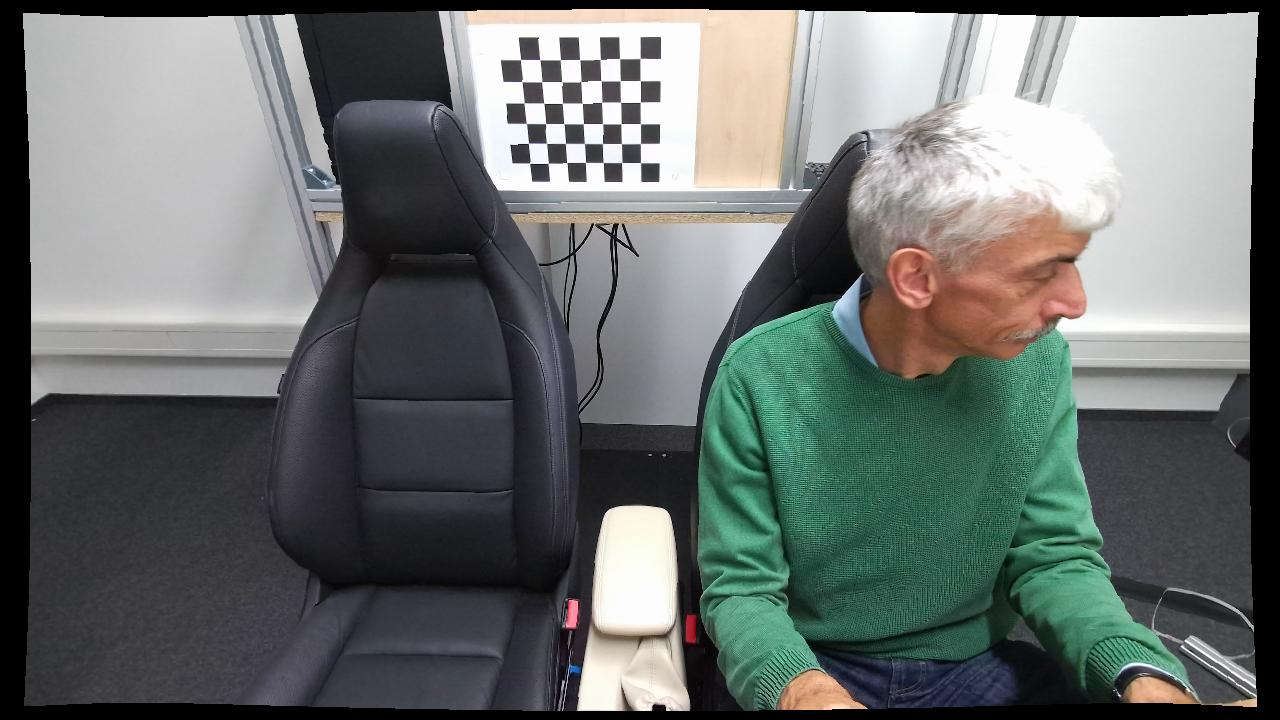Distracted: (695, 92, 1213, 713)
